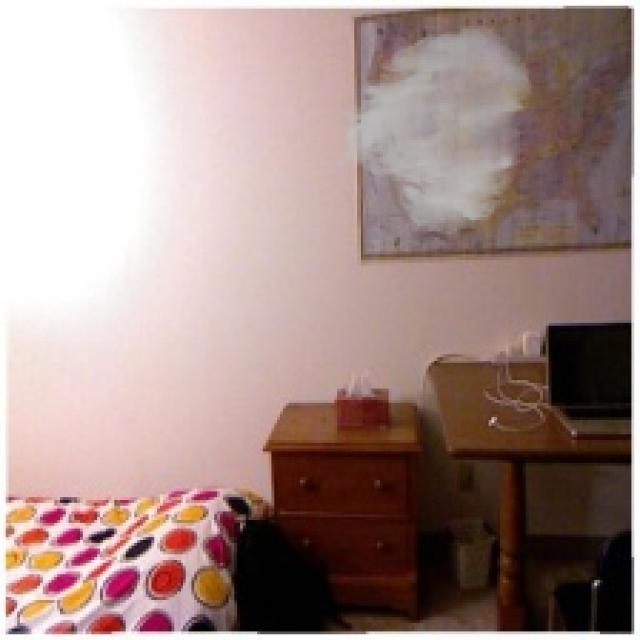smoke: (332, 23, 534, 237)
